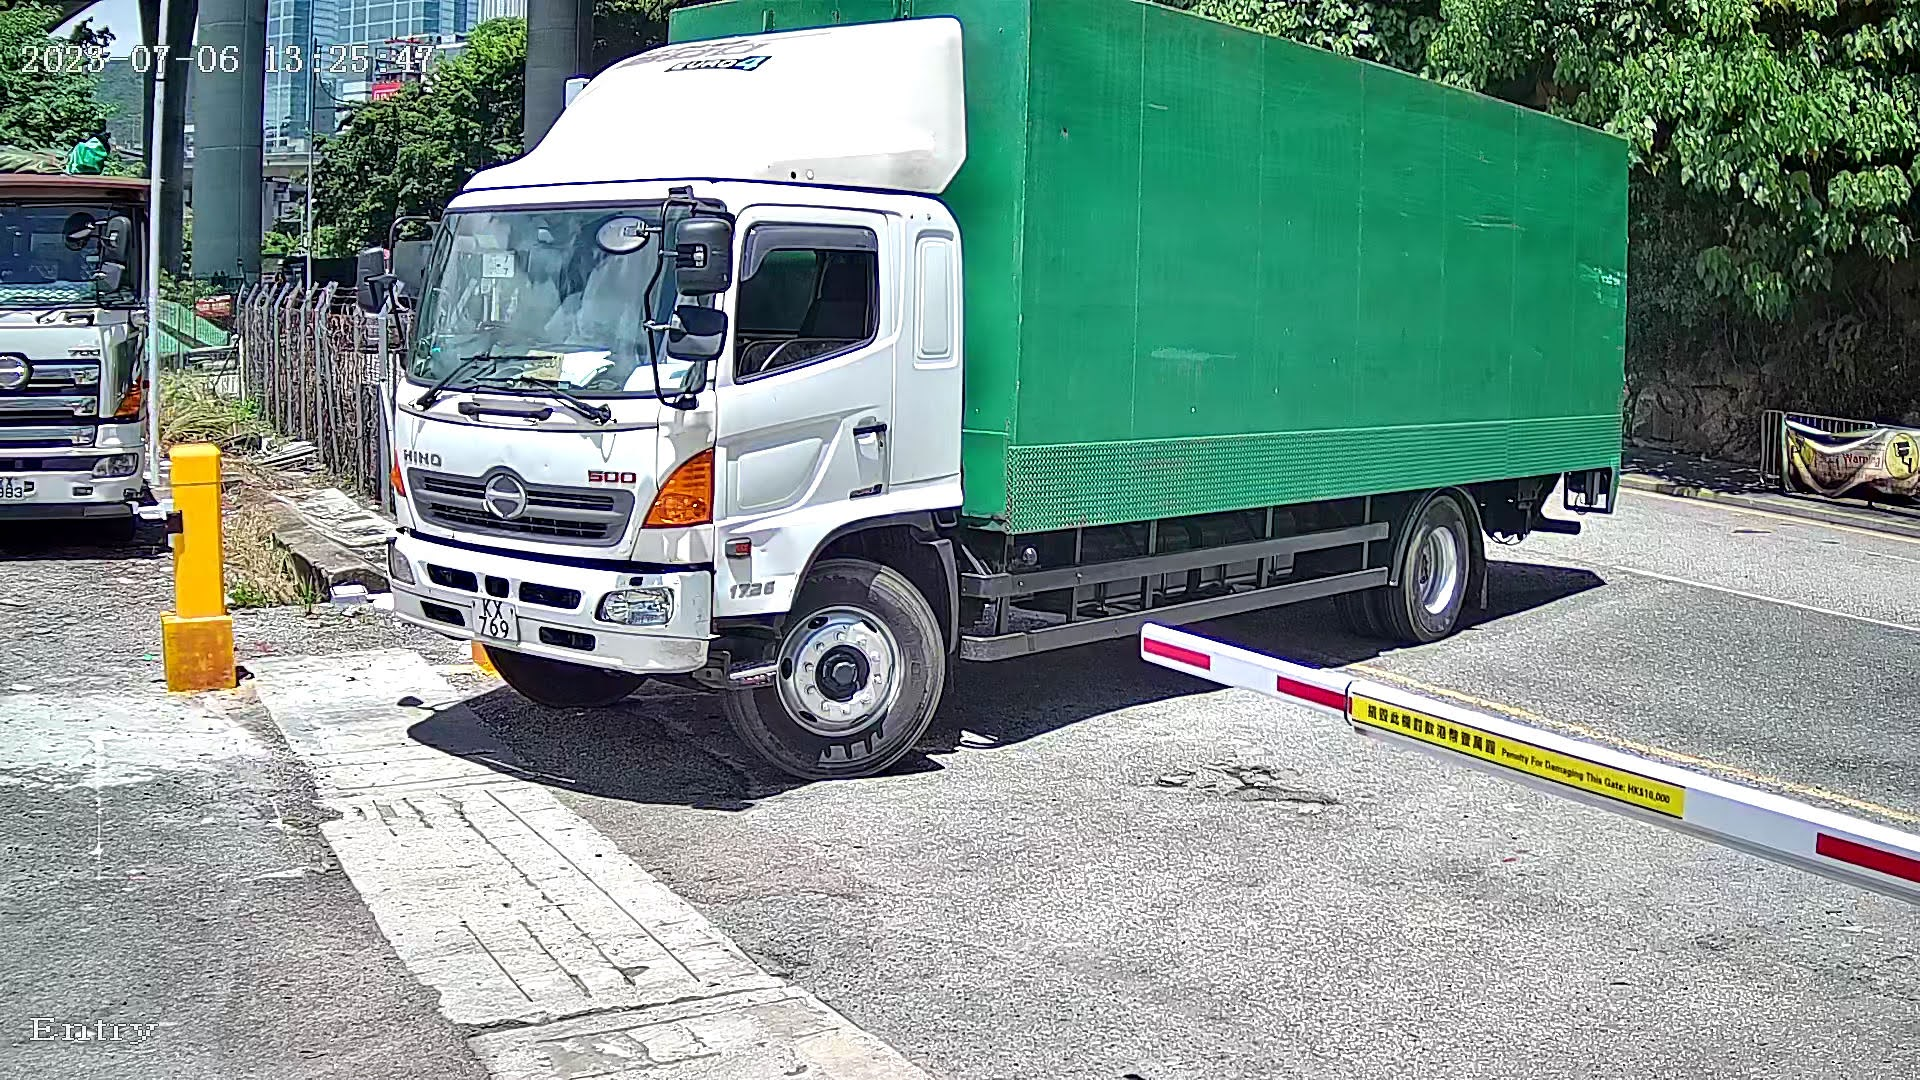truck: (400, 1, 1671, 829)
